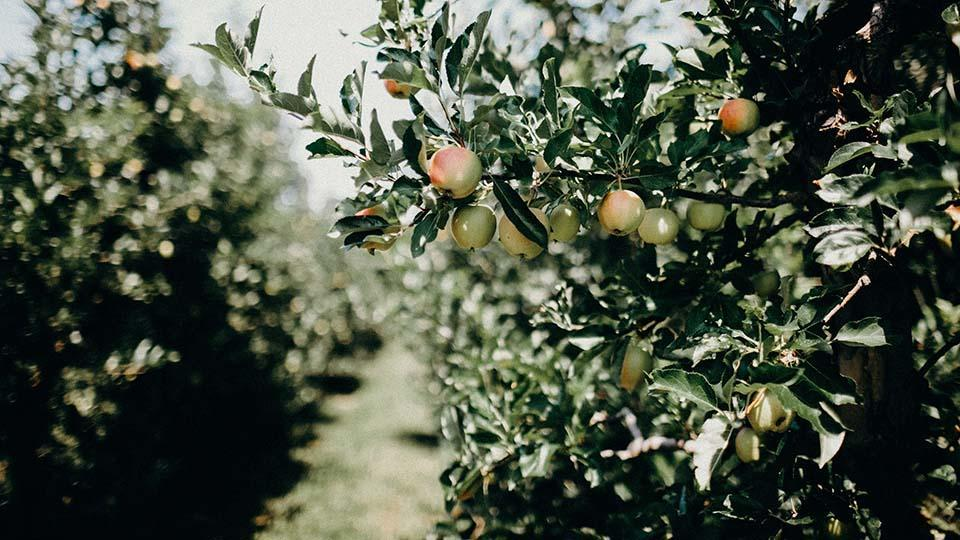apple: (427, 145, 484, 197), (498, 206, 550, 259), (448, 204, 499, 251), (597, 189, 647, 236), (748, 385, 793, 434), (719, 98, 761, 137), (639, 206, 676, 245), (546, 201, 579, 243), (735, 427, 761, 464)
